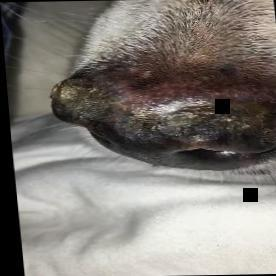keratosis: (43, 71, 276, 162)
